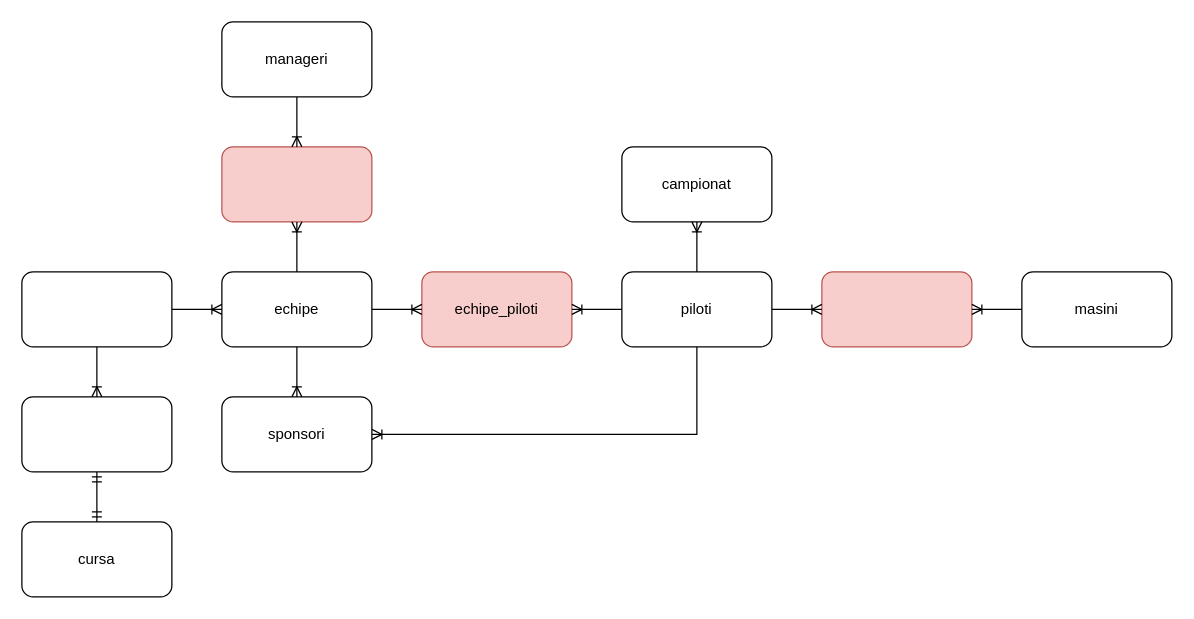
Some shapes in this 1194 by 619 pixel diagram are drawn without their labels. The centre of each missing label's shape, as x and y in pixels:
"circuite" belongs at point 96,434.
"formula_1" belongs at point 96,309.
"manageri_echipe" belongs at point 296,184.
"piloti_masini" belongs at point 896,309.
